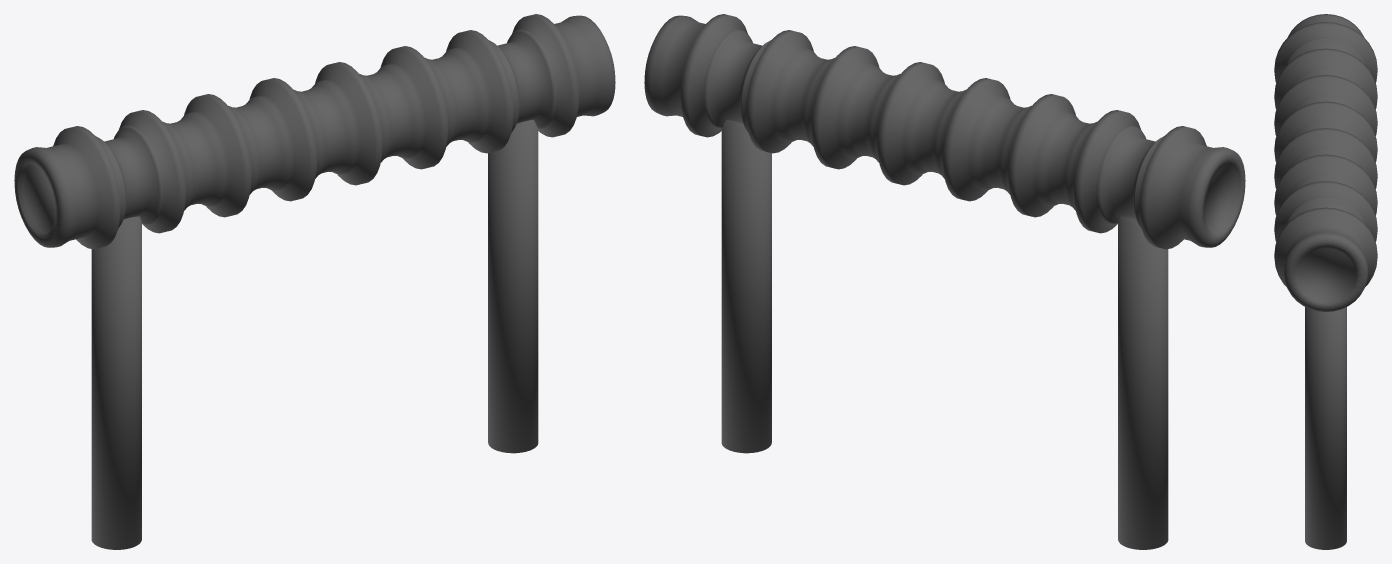
Rendered from hyperdrive switch.fbx.
The picture shows the model from 3 angles, left to right: view 1: azimuth 30°, elevation 25°; view 2: azimuth 150°, elevation 25°; view 3: azimuth 270°, elevation 25°; orthographic projection. The views are drawn at different scales.
Parts seen in each view (by area): view 1: Handle, Posts; view 2: Handle, Posts; view 3: Handle, Posts.
Boxes of the visible parts, box(x1,y1,x2,y2) form: Handle: box(14, 14, 615, 249); Posts: box(91, 119, 538, 549); Handle: box(644, 14, 1245, 249); Posts: box(721, 119, 1168, 549); Handle: box(1274, 14, 1377, 311); Posts: box(1305, 307, 1346, 549).
Bounding box in the file's own units: 15.77 × 11.26 × 3.06.
